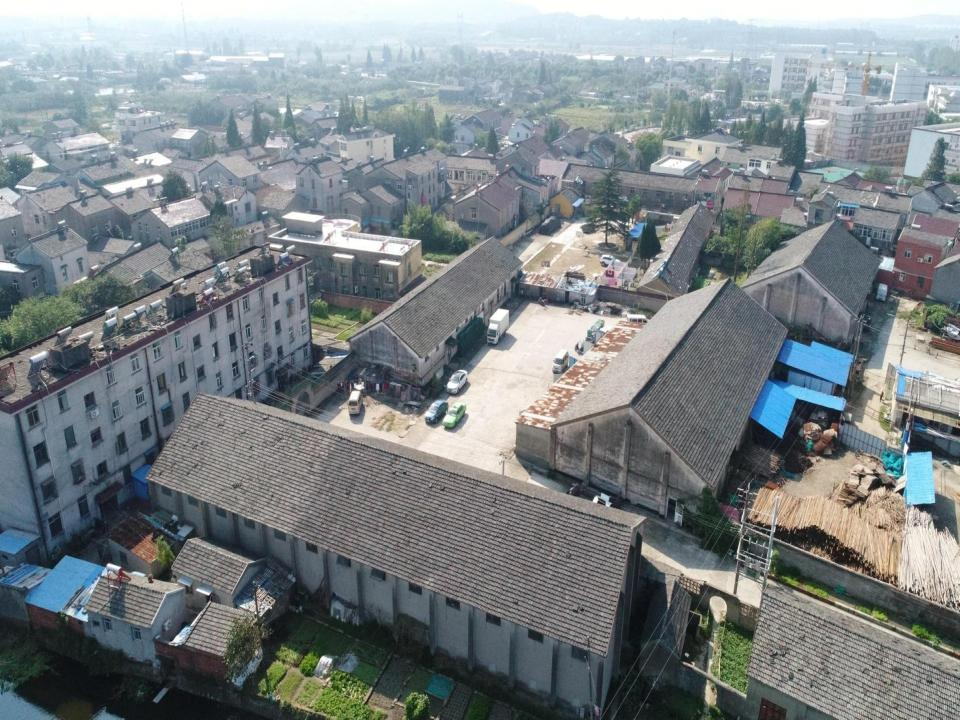car: (424, 399, 449, 424), (442, 402, 466, 428), (445, 369, 468, 394), (600, 254, 621, 266)
truck: (487, 308, 509, 344), (876, 282, 887, 302)
van: (626, 313, 651, 330), (552, 349, 569, 373), (348, 391, 363, 415)
